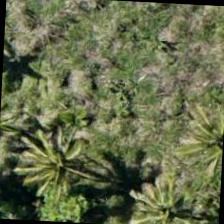Kelapa_Sawit: (7, 119, 102, 214), (122, 163, 216, 223)
